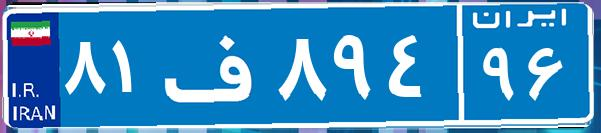1: (110, 28, 158, 105)
4: (385, 28, 445, 110)
6: (525, 38, 570, 115)
8: (273, 28, 330, 110), (57, 26, 110, 107)
9: (330, 28, 385, 110), (475, 38, 525, 113)
ف: (158, 15, 273, 115)
